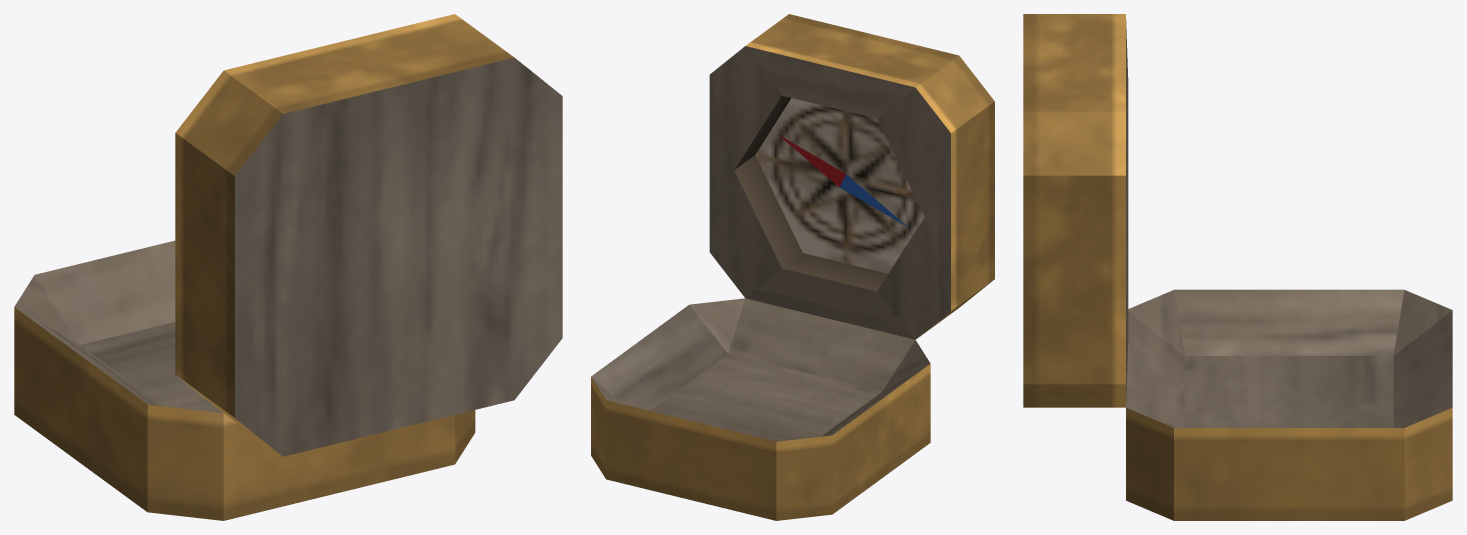
The model's file is Compass_A.fbx.
3 renders of one model, left to right at view 1: azimuth 30°, elevation 25°; view 2: azimuth 150°, elevation 25°; view 3: azimuth 270°, elevation 25°, orthographic. The views are drawn at different scales.
Visible parts, largest first — view 1: Compass_A; view 2: Compass_A; view 3: Compass_A.
Part boxes in pixels (x1,y1,x2,y2): Compass_A: (14,14,562,520); Compass_A: (591,14,994,520); Compass_A: (1023,14,1452,520).
Bounding box in the file's own units: 0.308 × 0.4538 × 0.4044.
